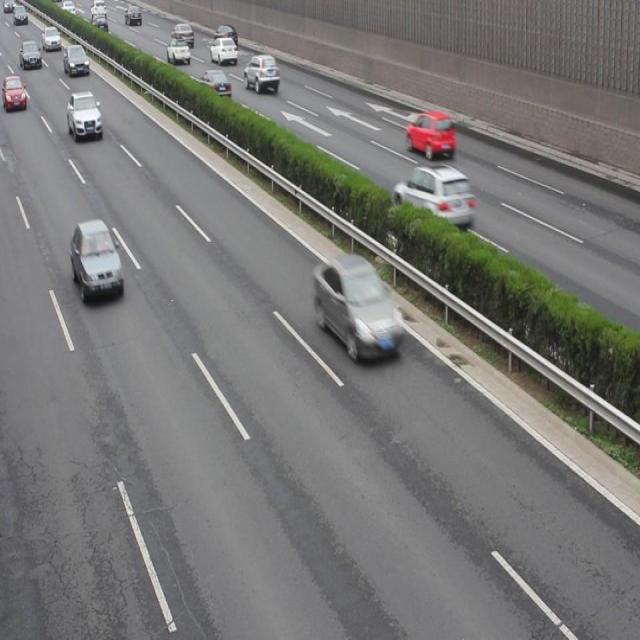car: (312, 254, 404, 360), (394, 163, 474, 230), (70, 218, 123, 300), (405, 111, 455, 158), (68, 94, 102, 136), (244, 54, 279, 92), (199, 68, 230, 99), (1, 76, 26, 108), (64, 45, 89, 77), (210, 38, 237, 64), (213, 26, 237, 50), (167, 40, 189, 63), (172, 23, 194, 46), (20, 42, 41, 66), (43, 28, 61, 48)
